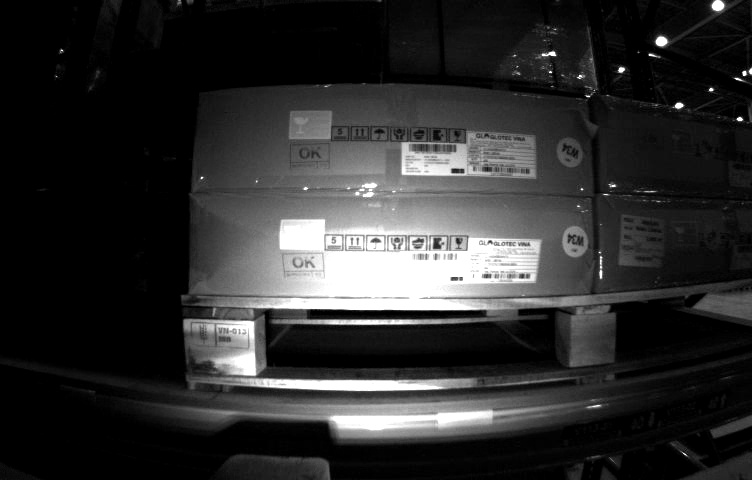True Barcode: (619, 213, 665, 268)
